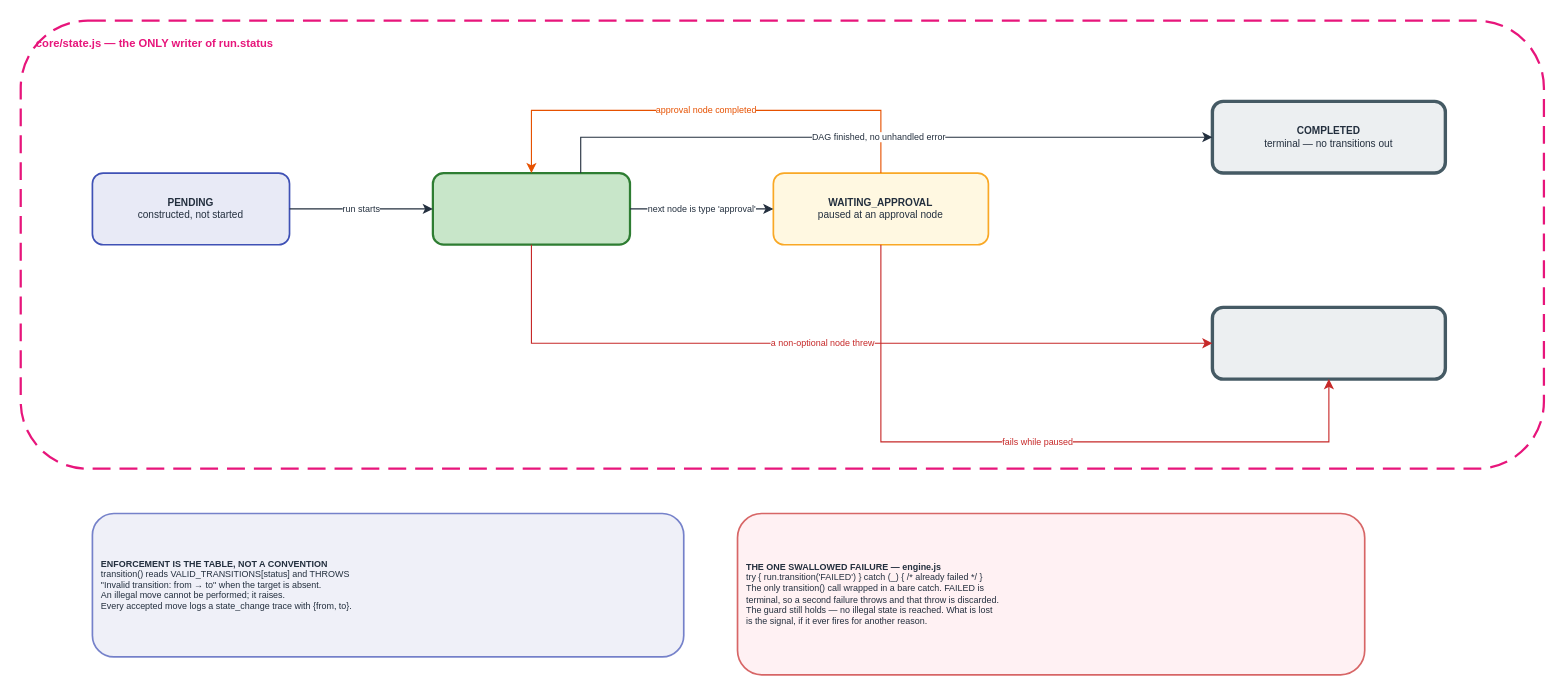
The diagram is 1564 pixels wide and 694 high, and some of its shapes have lost their labels. The centre of each missing label's shape, as x and y in pixels:
FAILED terminal — no transitions out: point (1328, 342)
RUNNING walking the DAG: point (531, 208)
